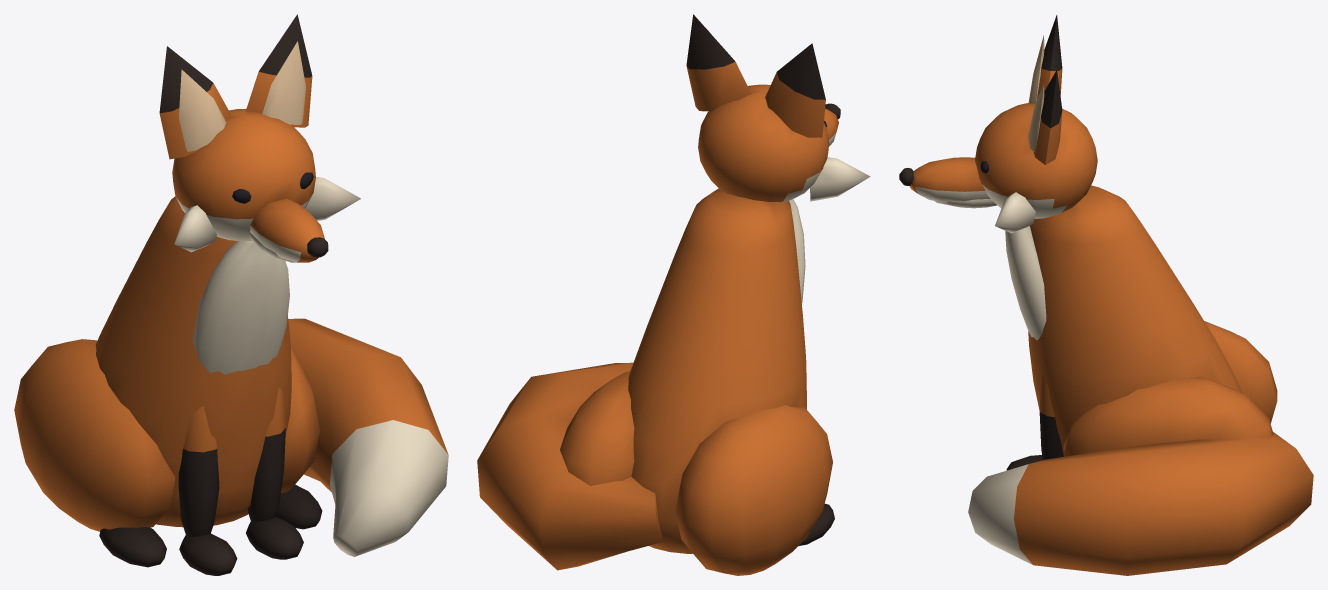
File: fox.glb
3 views of the same model, side by side, from view 1: azimuth 30°, elevation 25°; view 2: azimuth 150°, elevation 25°; view 3: azimuth 270°, elevation 25° (orthographic). The views are drawn at different scales.
Parts seen in each view (by area): view 1: fox, tail; view 2: fox, tail; view 3: fox, tail.
Part boxes in pixels (<box>): fox: <box>14,14,360,575</box>; tail: <box>288,318,448,556</box>; fox: <box>560,14,870,575</box>; tail: <box>477,362,663,570</box>; fox: <box>899,15,1277,470</box>; tail: <box>968,432,1313,575</box>.
Size of the model in its own units: 0.3196 by 0.4525 by 0.3708.
